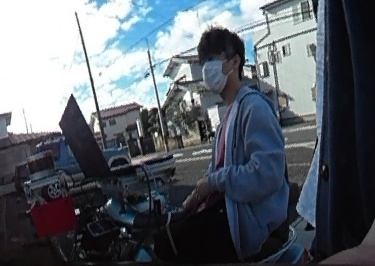person: (182, 28, 291, 266)
